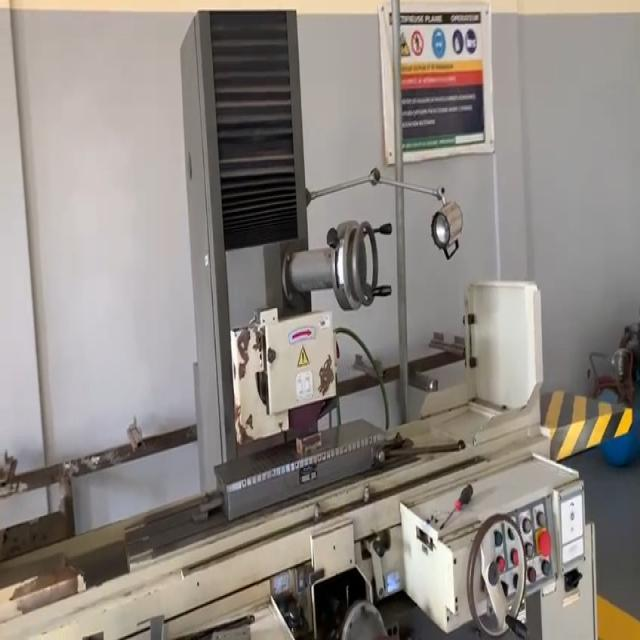fraiseuse: (0, 13, 631, 638)
